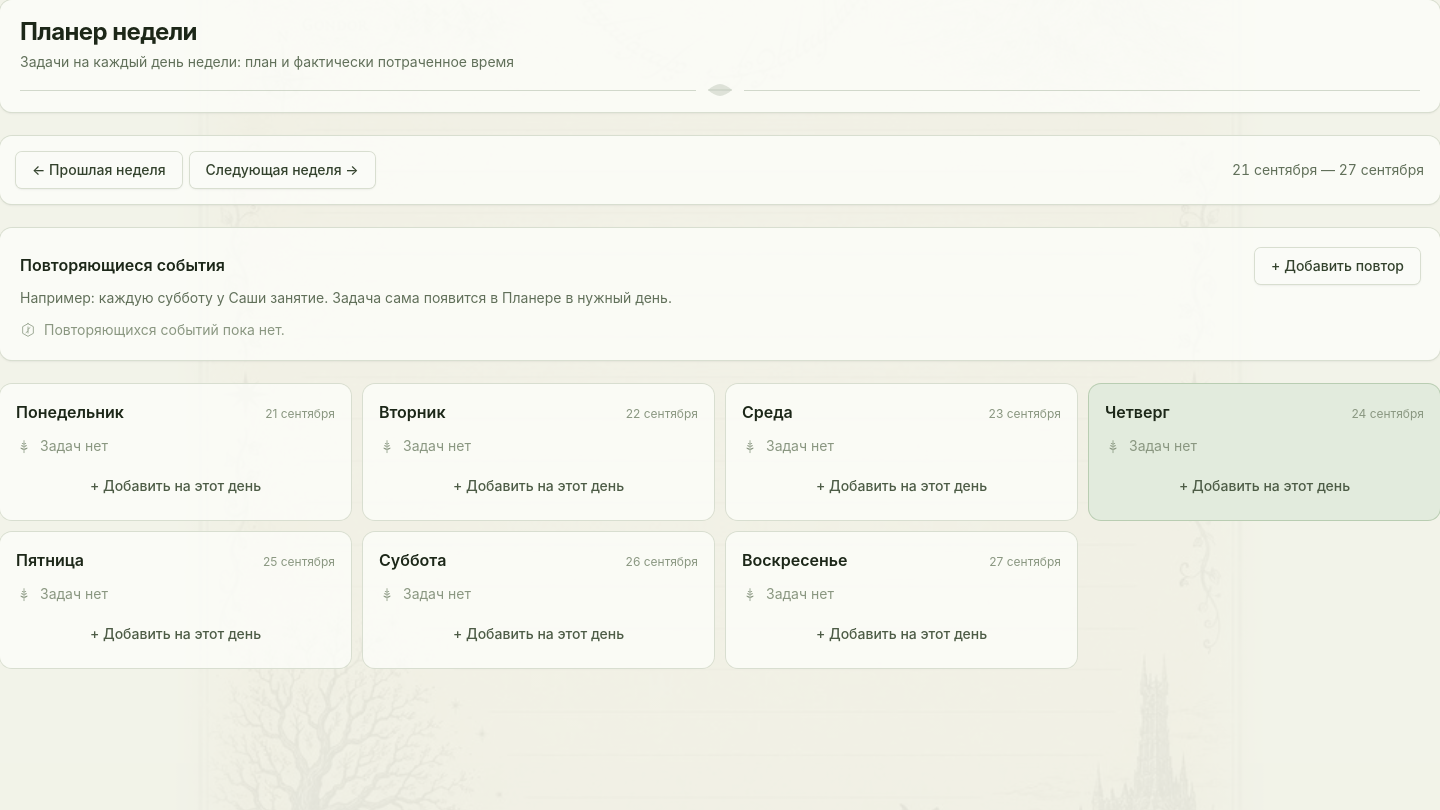
PlannerPage › кнопка «текущая неделя» появляется только при сдвиге
Expected: the heading "понедельник" is shown, x1=16 y1=400 x2=124 y2=424
Expected: the button "Текущая неделя" is not shown
Step 1. Click the button "Следующая неделя →" → (282, 170), box x1=190 y1=152 x2=375 y2=188
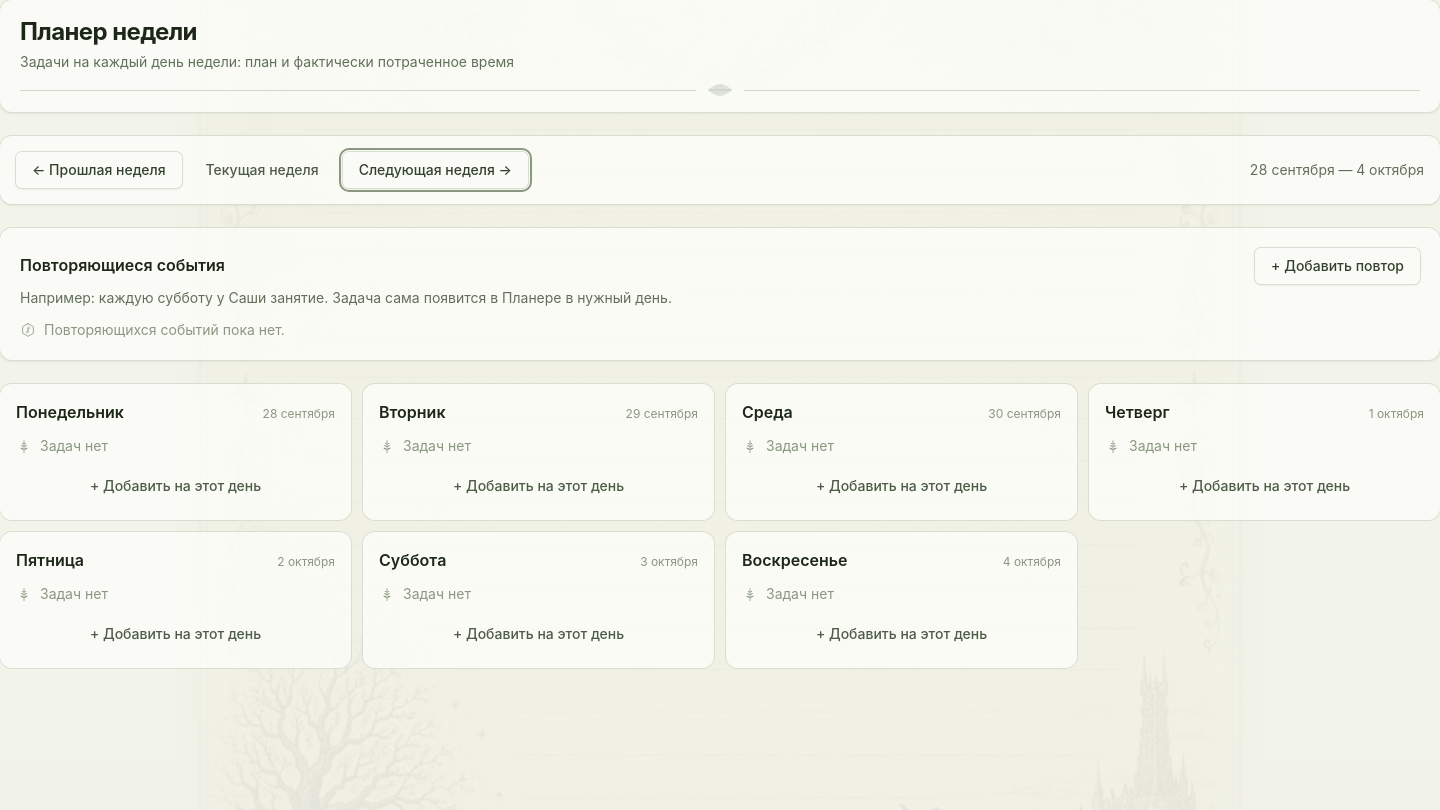
Expected: the button "Текущая неделя" is shown, x1=190 y1=152 x2=335 y2=188
